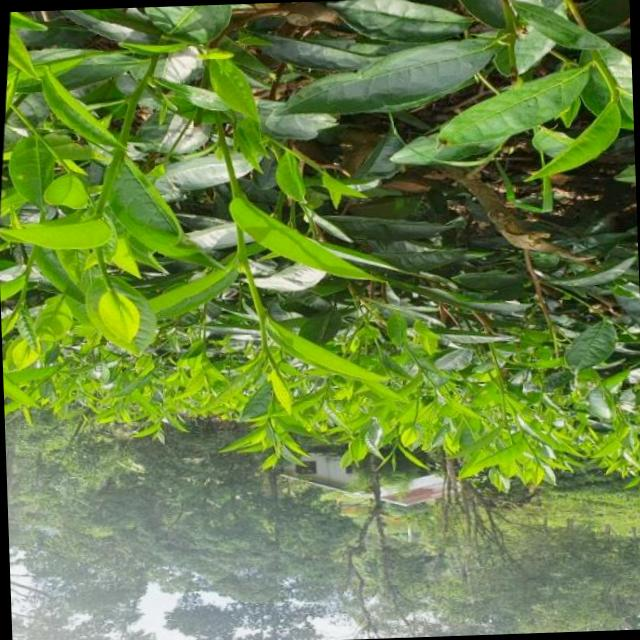Stem: (608, 80, 617, 90), (94, 206, 102, 216), (260, 341, 266, 350), (18, 292, 24, 301)
